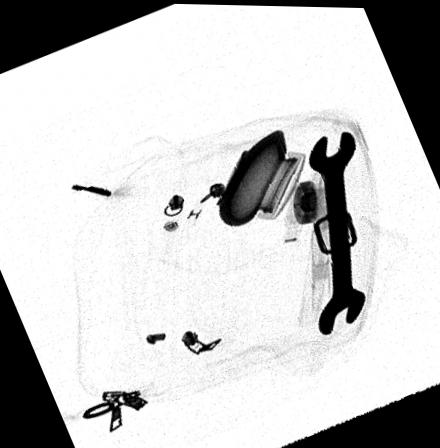Wrench: (311, 130, 368, 333)
